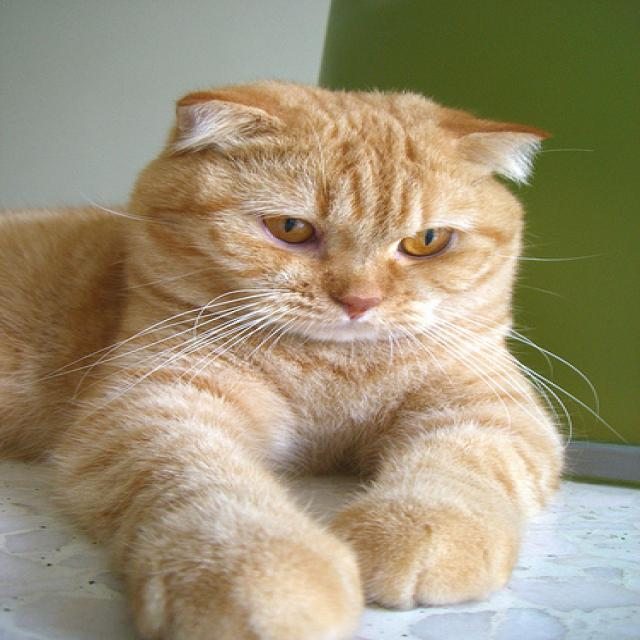cat: (1, 78, 621, 638)
